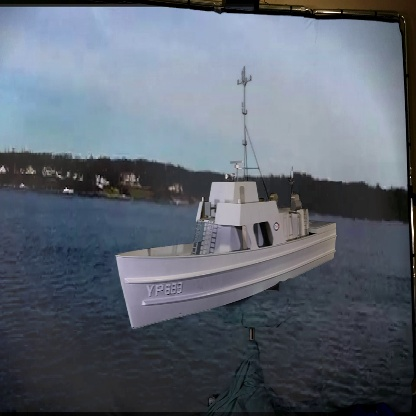YP689: (115, 63, 338, 329)
